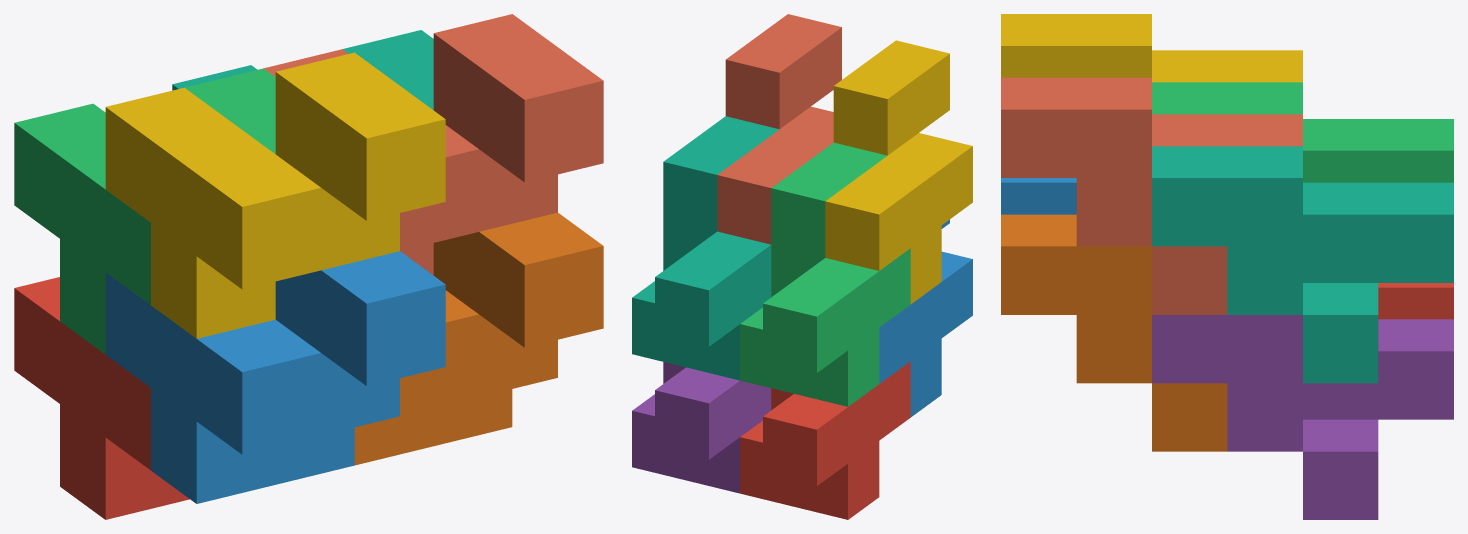
File: tiling.obj
3 renders of one model, left to right at view 1: azimuth 30°, elevation 25°; view 2: azimuth 150°, elevation 25°; view 3: azimuth 270°, elevation 25°, orthographic. The views are drawn at different scales.
Parts seen in each view (by area): view 1: copy_1_domain_4, copy_1_domain_2, copy_1_domain_6, copy_1_domain_8, copy_1_domain_3, copy_1_domain_1, copy_1_domain_7; view 2: copy_1_domain_3, copy_1_domain_4, copy_1_domain_7, copy_1_domain_8, copy_1_domain_1, copy_1_domain_5, copy_1_domain_2; view 3: copy_1_domain_7, copy_1_domain_5, copy_1_domain_8, copy_1_domain_6, copy_1_domain_3, copy_1_domain_4, copy_1_domain_1, copy_1_domain_2.
Part boxes in pixels (<box>): copy_1_domain_4: <box>105,52,445,338</box>; copy_1_domain_2: <box>105,251,445,503</box>; copy_1_domain_6: <box>354,212,603,465</box>; copy_1_domain_8: <box>264,14,603,275</box>; copy_1_domain_3: <box>14,68,275,354</box>; copy_1_domain_1: <box>14,277,189,519</box>; copy_1_domain_7: <box>172,30,433,109</box>; copy_1_domain_3: <box>740,142,910,406</box>; copy_1_domain_4: <box>825,40,972,304</box>; copy_1_domain_7: <box>632,116,778,380</box>; copy_1_domain_8: <box>717,14,841,244</box>; copy_1_domain_1: <box>740,361,910,519</box>; copy_1_domain_5: <box>632,362,771,493</box>; copy_1_domain_2: <box>879,219,972,417</box>; copy_1_domain_7: <box>1152,146,1453,383</box>; copy_1_domain_5: <box>1152,315,1453,519</box>; copy_1_domain_8: <box>1001,77,1302,314</box>; copy_1_domain_6: <box>1001,214,1227,451</box>; copy_1_domain_3: <box>1152,82,1453,182</box>; copy_1_domain_4: <box>1001,14,1302,82</box>; copy_1_domain_1: <box>1378,283,1453,319</box>; copy_1_domain_2: <box>1001,178,1076,214</box>.
Bounding box in the file's own units: 4 × 6 × 6.
